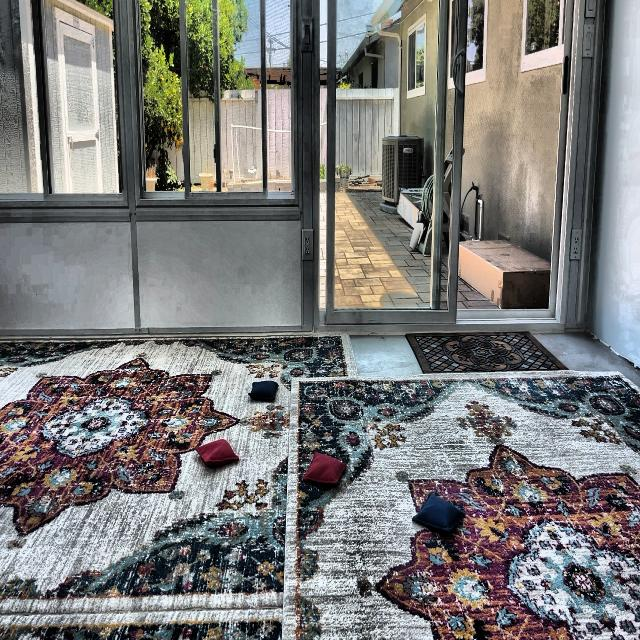blue-bean-bag: (412, 489, 465, 535), (248, 380, 278, 402)
red-bean-bag: (302, 449, 347, 487), (196, 438, 238, 466)
